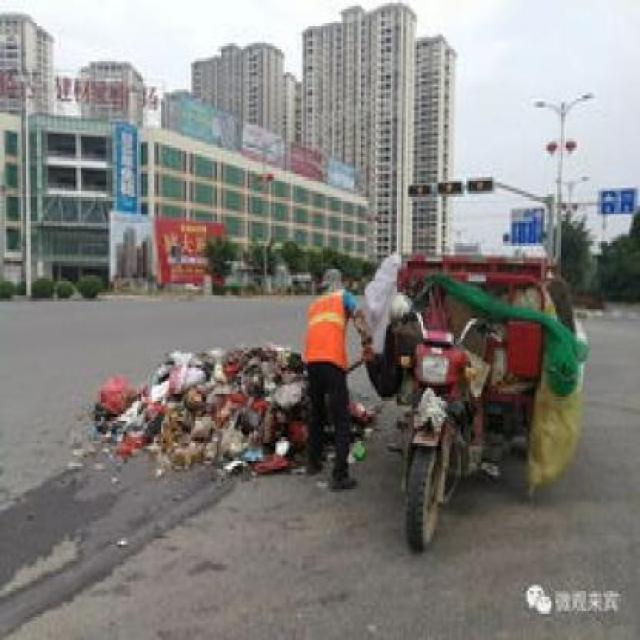garbage: (94, 371, 306, 469), (168, 342, 305, 374), (369, 263, 393, 318)
